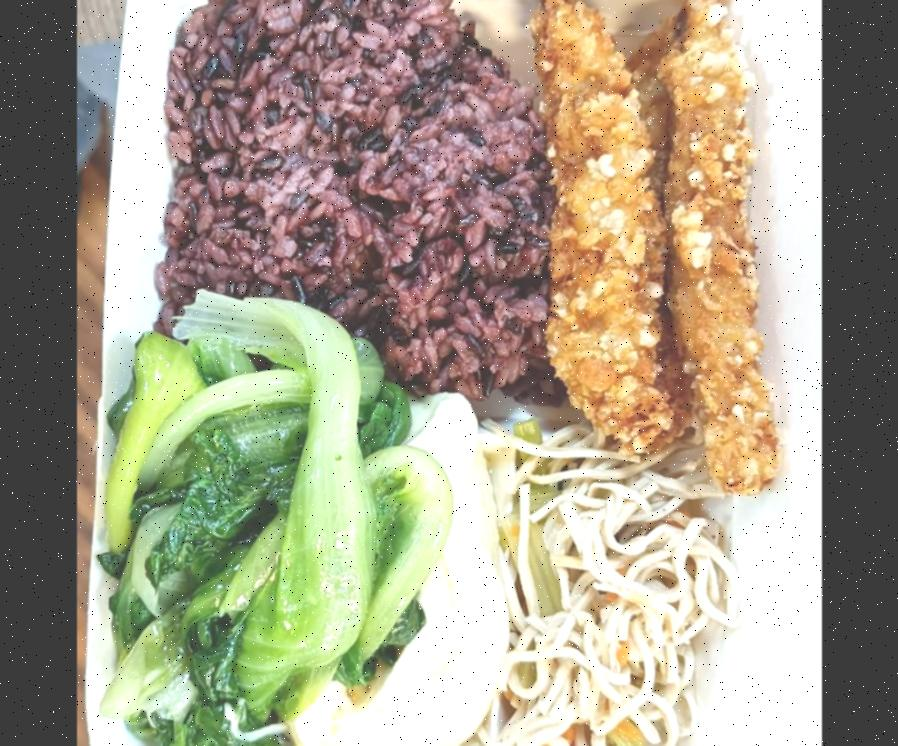box: (79, 0, 763, 746)
fried spanish mackerel: (531, 0, 781, 508)
purple rice: (156, 0, 553, 403)
side dish: (101, 294, 440, 746), (488, 444, 726, 746), (324, 384, 515, 746)
